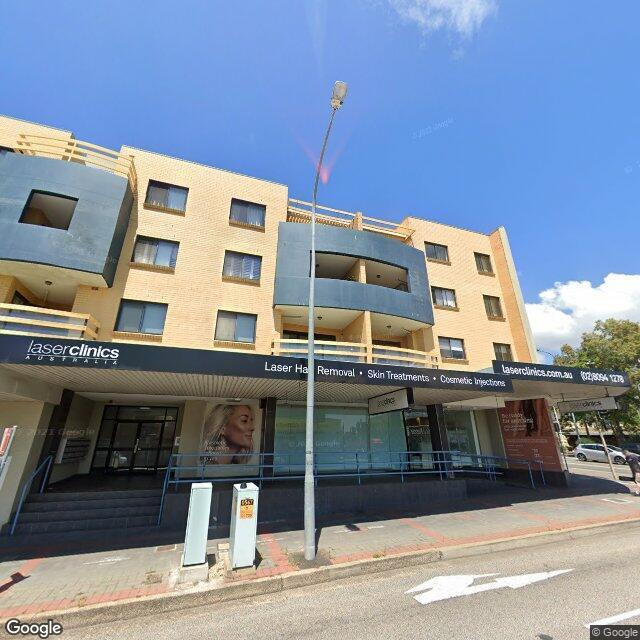steel-pole: (303, 191, 318, 561)
streetlight: (313, 80, 348, 190)
